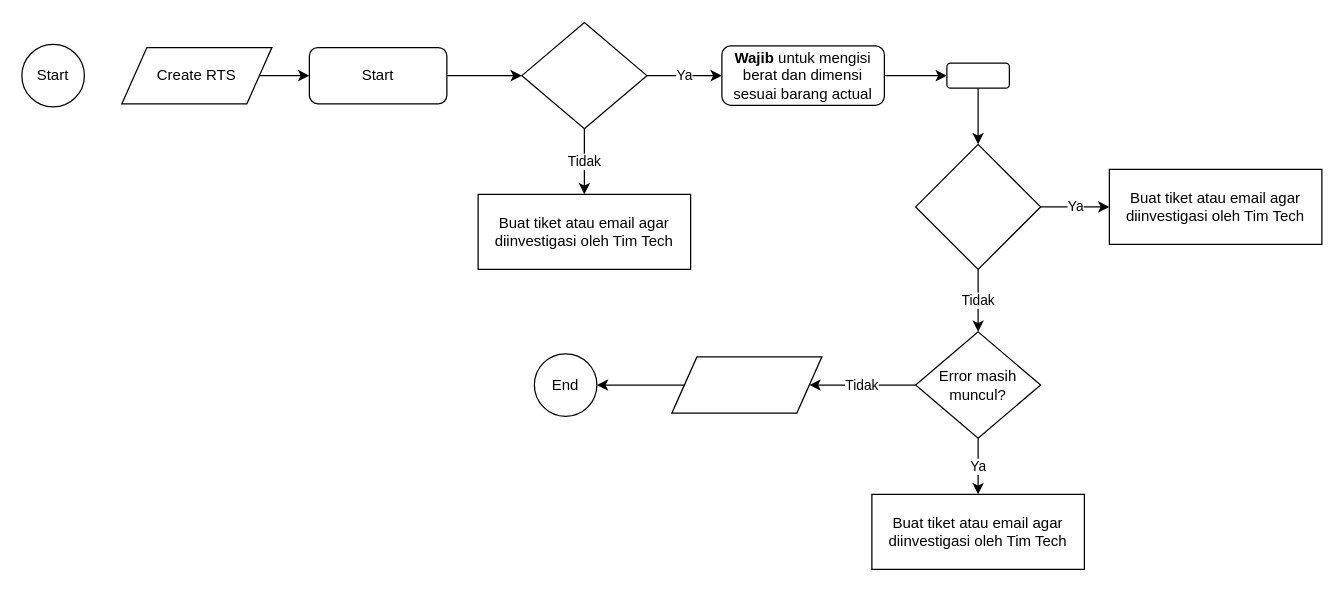
The diagram is 1344 pixels wide and 591 high, and some of its shapes have lost their labels. Here are the shapes that lost their labels. From the top down, the centre of each, then its label:
[584,75]: AWB Muncul?
[977,75]: SAVE
[977,206]: Muncul Notif "Mapping Location Not Found"
[746,384]: Tampil new tab Shipping Label
